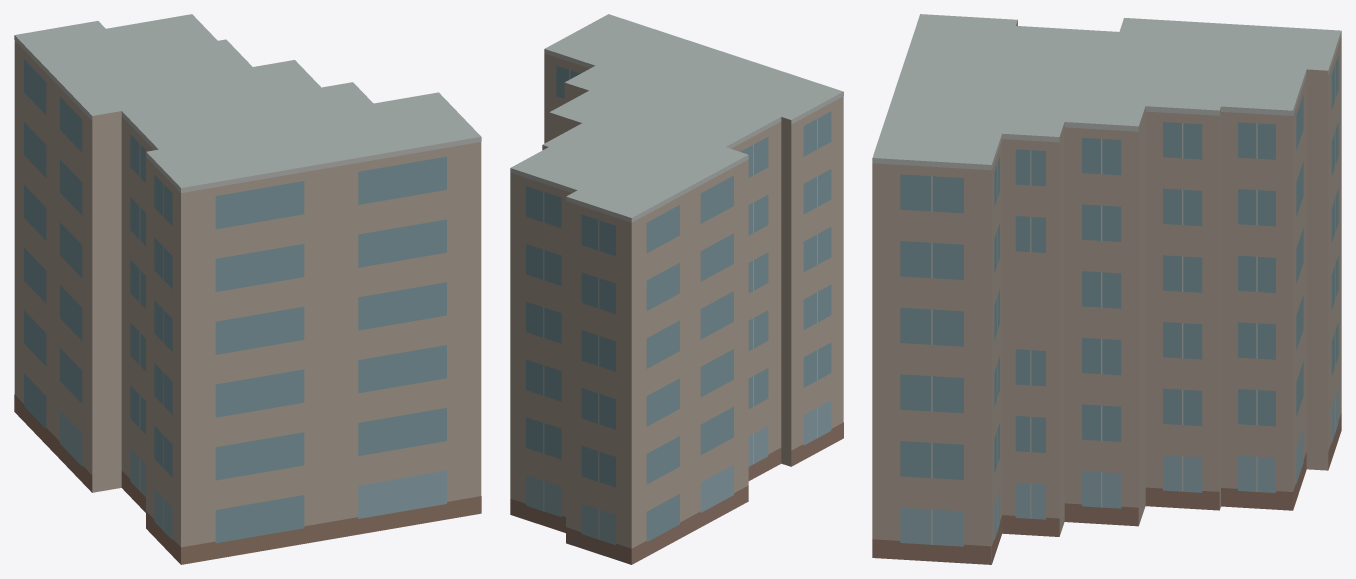
The model's file is survey-upis-32667628.glb.
3 views of the same model, side by side, from view 1: azimuth 30°, elevation 25°; view 2: azimuth 150°, elevation 25°; view 3: azimuth 270°, elevation 25° (orthographic). The views are drawn at different scales.
Parts seen in each view (by area): view 1: survey-upis-32667628.tmp; view 2: survey-upis-32667628.tmp; view 3: survey-upis-32667628.tmp.
Boxes of the visible parts, x1,y1,x2,y2 form: survey-upis-32667628.tmp: (14,14,481,564); survey-upis-32667628.tmp: (510,14,843,564); survey-upis-32667628.tmp: (872,14,1341,564).
Size of the model in its own units: 14.82 by 18.3 by 19.47.
